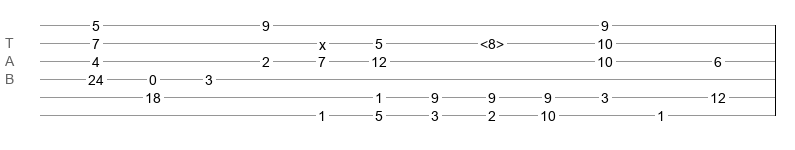0: (149, 72, 157, 82)
1: (318, 108, 326, 118), (375, 90, 383, 100), (657, 108, 665, 118)
10: (540, 108, 556, 118), (597, 36, 613, 46), (597, 54, 613, 64)
12: (371, 54, 387, 64), (710, 90, 726, 100)
18: (145, 90, 161, 100)
2: (262, 54, 270, 64), (488, 108, 496, 118)
24: (88, 72, 104, 82)
3: (205, 72, 213, 82), (431, 108, 439, 118), (601, 90, 609, 100)
4: (92, 54, 100, 64)
5: (92, 18, 100, 28), (375, 36, 383, 46), (375, 108, 383, 118)
6: (714, 54, 722, 64)
7: (92, 36, 100, 46), (318, 54, 326, 64)
9: (262, 18, 270, 28), (431, 90, 439, 100), (488, 90, 496, 100), (544, 90, 552, 100), (601, 18, 609, 28)
harmonic: (480, 36, 504, 46)
x: (319, 37, 326, 45)
